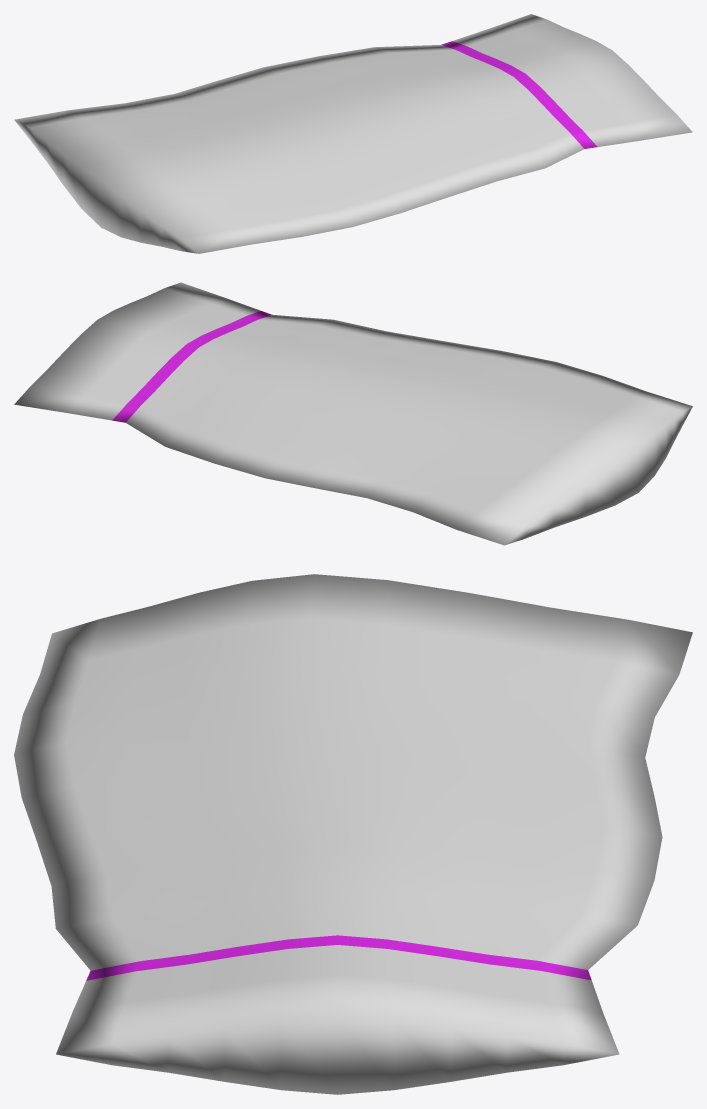
Rendered from LéGroTaz.fbx.
The picture shows the model from 3 angles, top to bottom: view 1: azimuth 30°, elevation 25°; view 2: azimuth 150°, elevation 25°; view 3: azimuth 270°, elevation 25°; orthographic projection. The views are drawn at different scales.
Parts seen in each view (by area): view 1: Cube; view 2: Cube; view 3: Cube.
Part boxes in pixels (left/top/right/bottom): Cube: left=14, top=14, right=692, bottom=253; Cube: left=14, top=282, right=692, bottom=545; Cube: left=14, top=574, right=692, bottom=1094.
Bounding box in the file's own units: 1944 × 166 × 1267.
